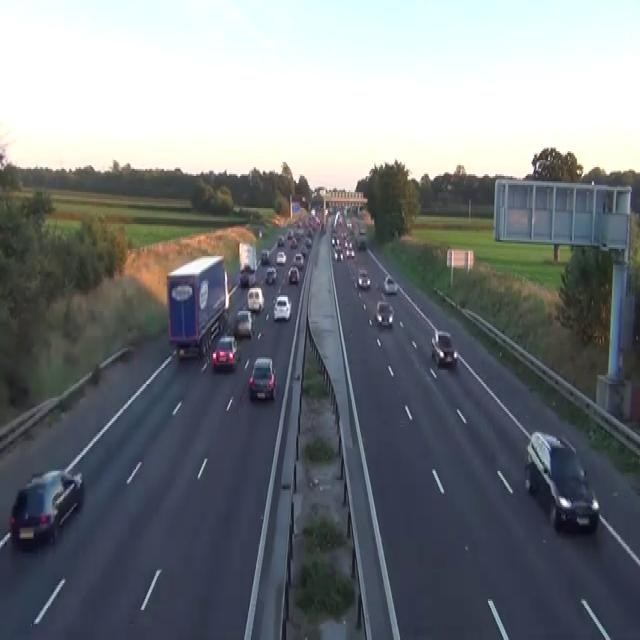Car: (524, 431, 599, 534), (9, 468, 84, 550), (248, 356, 276, 400), (431, 329, 457, 368), (212, 334, 238, 370), (234, 309, 252, 338), (374, 301, 394, 327), (273, 295, 291, 320), (247, 286, 264, 311), (238, 263, 256, 286), (357, 267, 370, 288), (383, 276, 397, 294), (356, 227, 367, 249), (347, 262, 357, 284), (288, 265, 299, 284), (265, 265, 276, 283), (293, 252, 304, 268), (333, 246, 343, 262), (276, 251, 286, 265), (238, 272, 248, 286), (260, 249, 269, 263), (300, 245, 307, 258), (346, 247, 354, 258), (320, 220, 326, 233), (289, 238, 297, 247), (232, 204, 240, 213), (277, 235, 284, 245), (286, 228, 293, 238), (331, 235, 338, 245), (305, 237, 312, 246), (310, 208, 316, 217), (258, 228, 262, 238), (324, 208, 328, 217)
Truck: (166, 254, 229, 359), (238, 242, 256, 286), (352, 217, 367, 249)
